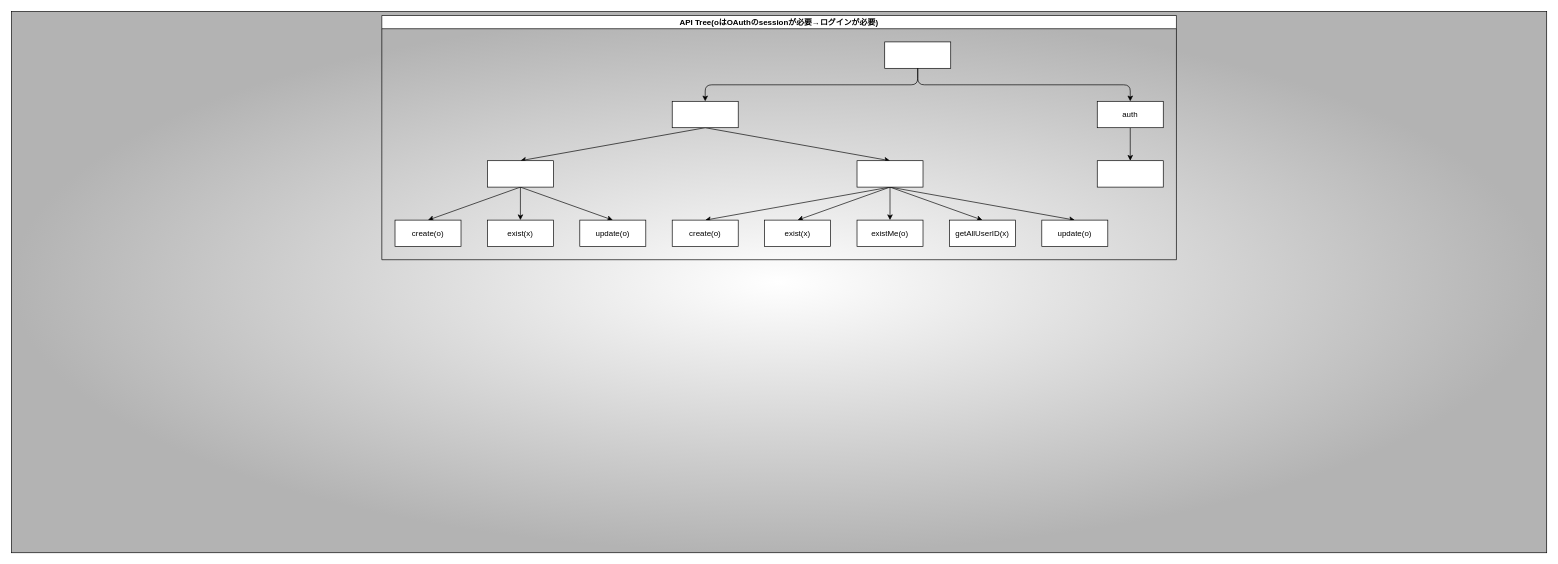
Some shapes in this 1558 by 564 pixel diagram are drawn without their labels. Each missing label, with the centre of its shape:
"[...nextauth](x)" goes at point (1130, 173).
"api" goes at point (917, 54).
"db" goes at point (705, 114).
"pages" goes at point (520, 173).
"users" goes at point (889, 173).
